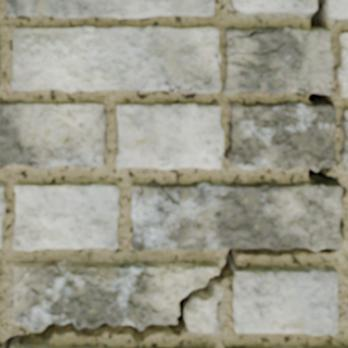brick: (133, 182, 342, 251), (12, 27, 218, 92), (226, 102, 337, 169), (13, 182, 118, 250), (225, 28, 332, 94), (234, 266, 337, 334), (0, 102, 105, 168), (117, 104, 223, 168), (8, 0, 214, 17), (337, 33, 347, 95), (193, 75, 221, 92), (0, 183, 7, 247), (341, 110, 347, 171), (256, 27, 272, 30)
broken_brick: (14, 259, 220, 331), (188, 283, 224, 334), (233, 0, 315, 15), (327, 0, 347, 19)
crack: (2, 217, 345, 347), (163, 53, 221, 92), (307, 167, 346, 199), (227, 43, 285, 57), (228, 27, 276, 41), (310, 0, 331, 29), (307, 92, 333, 105), (14, 302, 16, 317)
